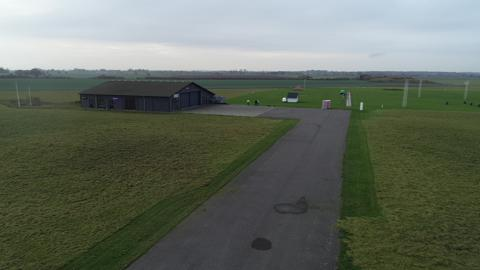RockwoolPallet: (326, 97, 333, 112)
